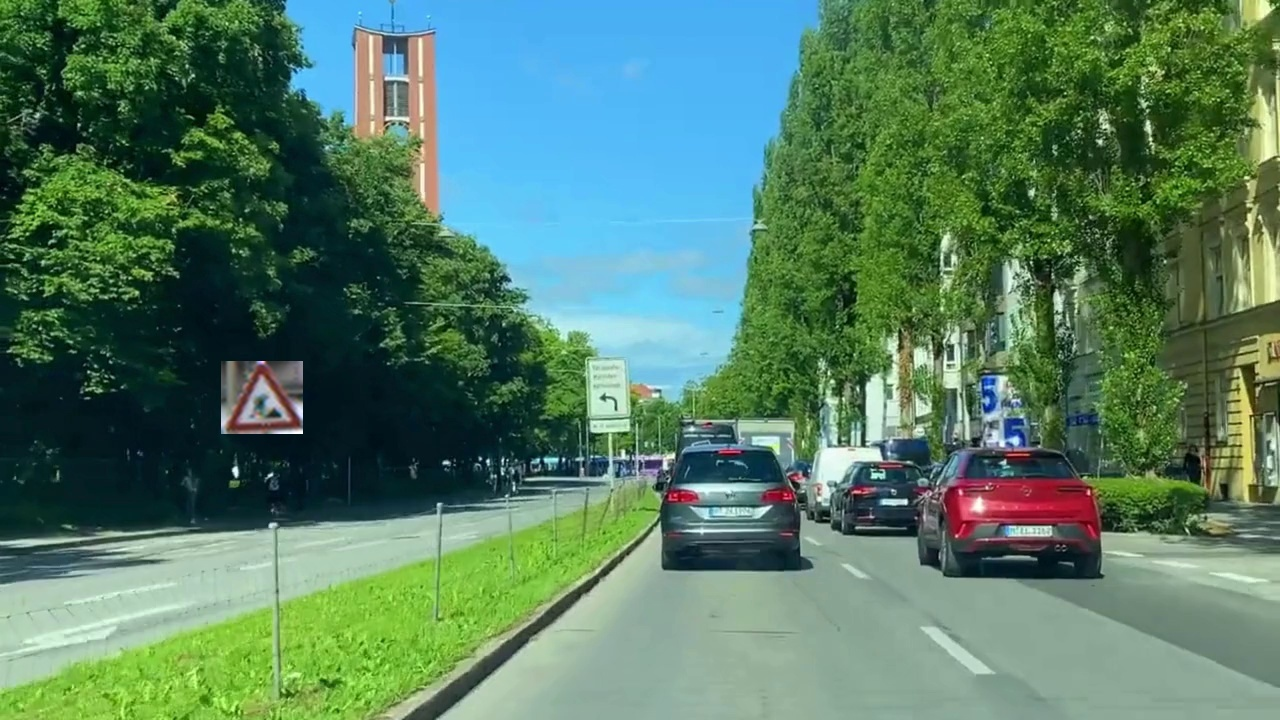Road work: (221, 361, 303, 434)
